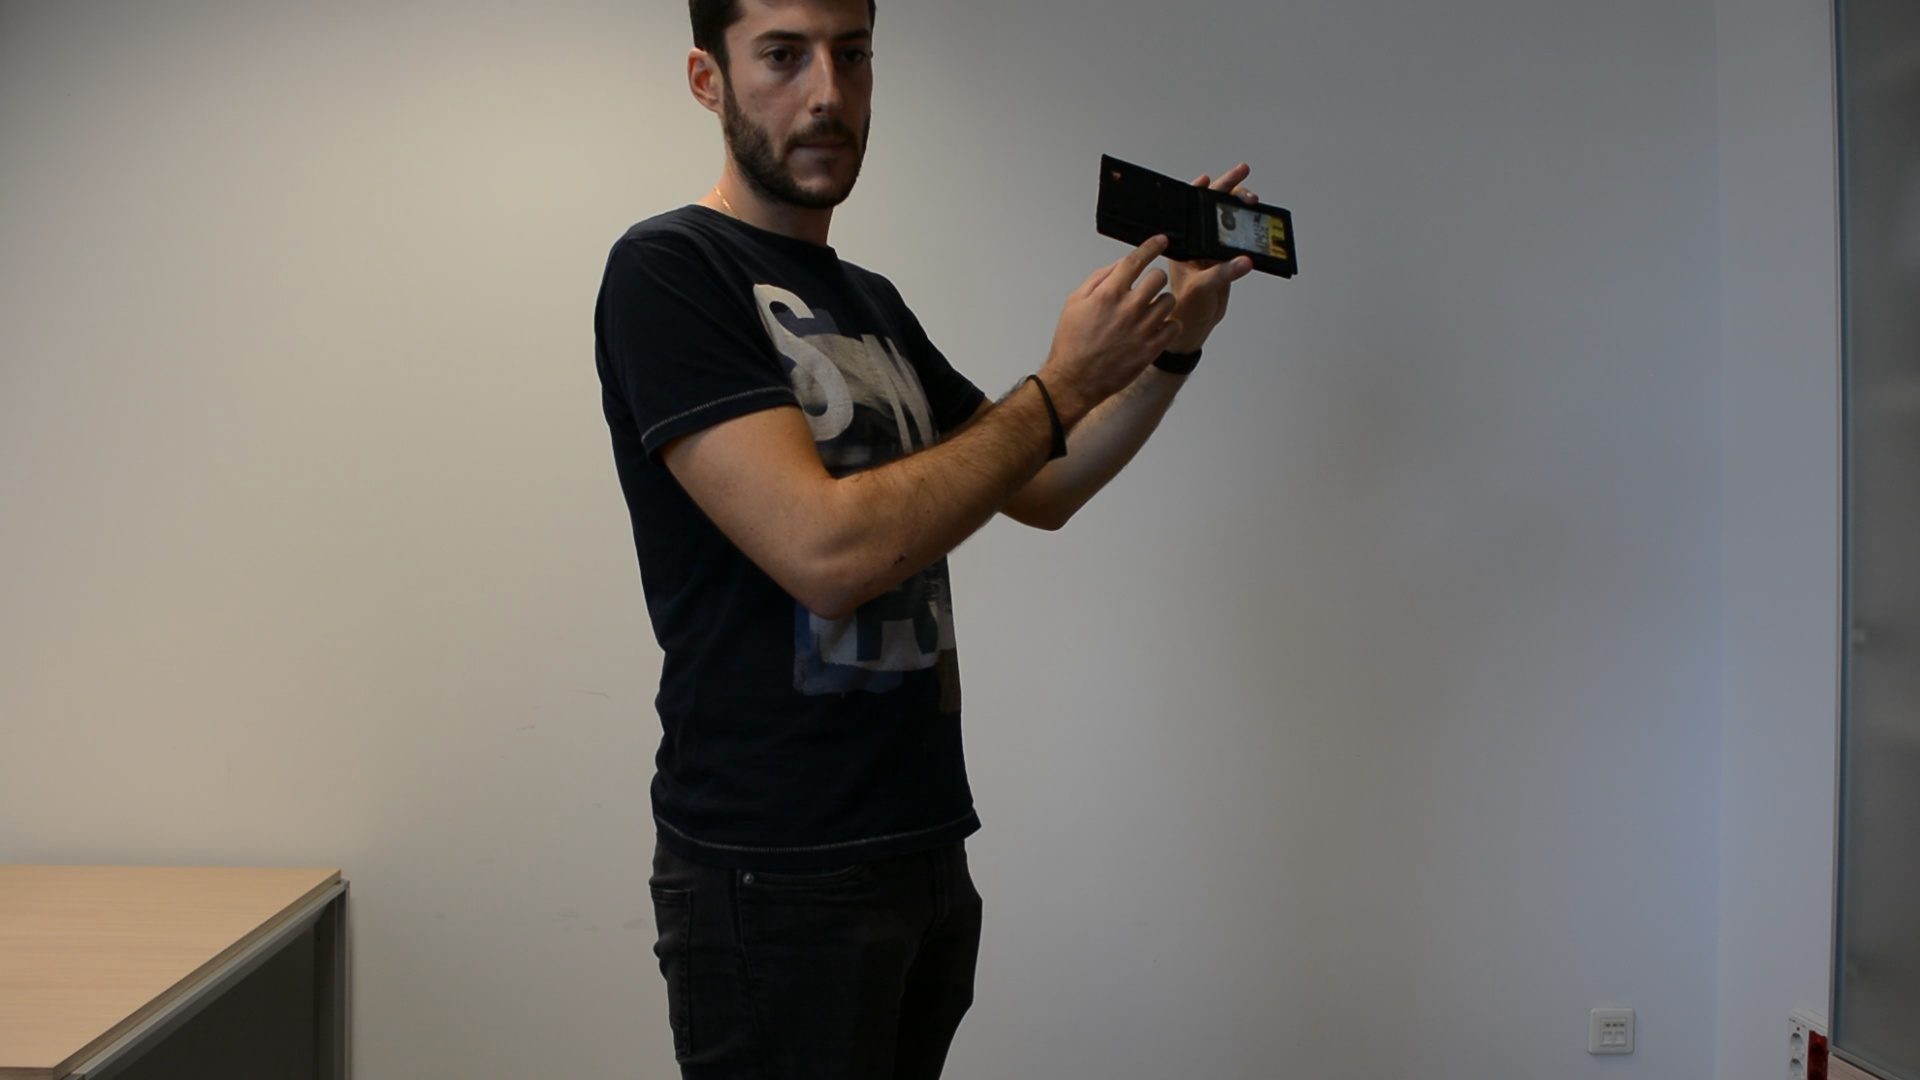monedero: (1091, 146, 1300, 284)
